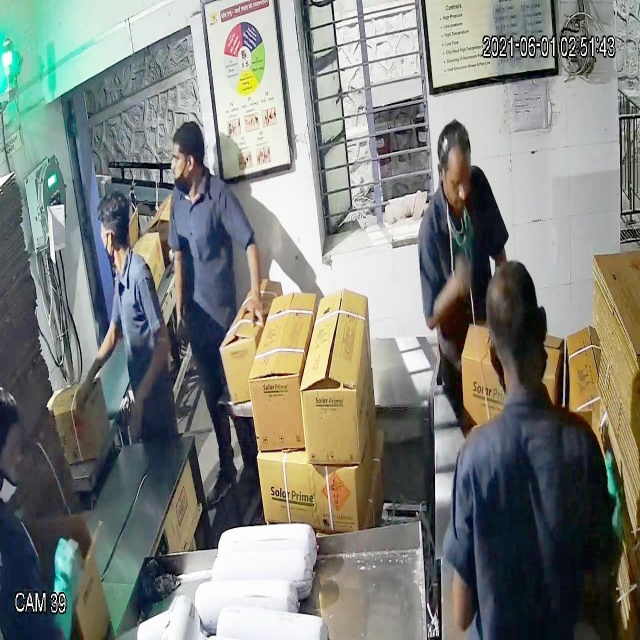Sin_gafas: (430, 160, 480, 198)
